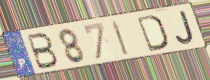7: (82, 21, 107, 62)
8: (58, 27, 85, 65)
B: (25, 31, 60, 71)
D: (135, 13, 169, 53)
I: (110, 19, 130, 57)
J: (174, 9, 196, 46)
